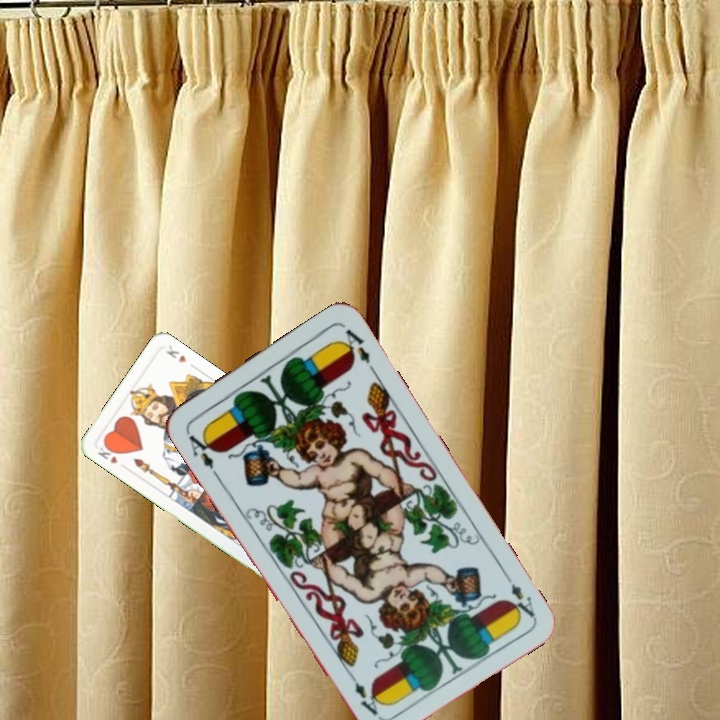EA: (499, 567, 538, 623), (182, 427, 220, 472)
HK: (93, 440, 121, 466)
